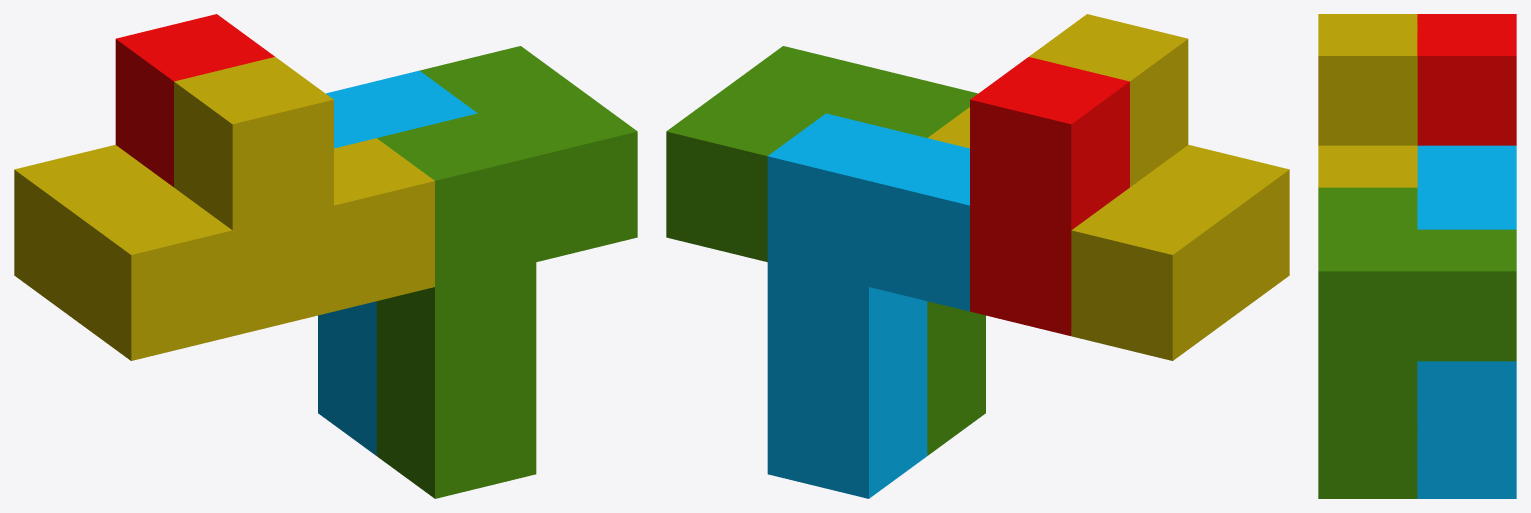
3 renders of one model, left to right at view 1: azimuth 30°, elevation 25°; view 2: azimuth 150°, elevation 25°; view 3: azimuth 270°, elevation 25°, orthographic. The views are drawn at different scales.
Parts seen in each view (by area): view 1: mergedBlocks(Clone); view 2: mergedBlocks(Clone); view 3: mergedBlocks(Clone).
Boxes of the visible parts, left/top/right/bottom form: mergedBlocks(Clone): left=14, top=14, right=637, bottom=498; mergedBlocks(Clone): left=666, top=14, right=1289, bottom=498; mergedBlocks(Clone): left=1318, top=14, right=1516, bottom=498.
Size of the model in its own units: 5 by 4 by 2.
4 materials, 4 textured.
